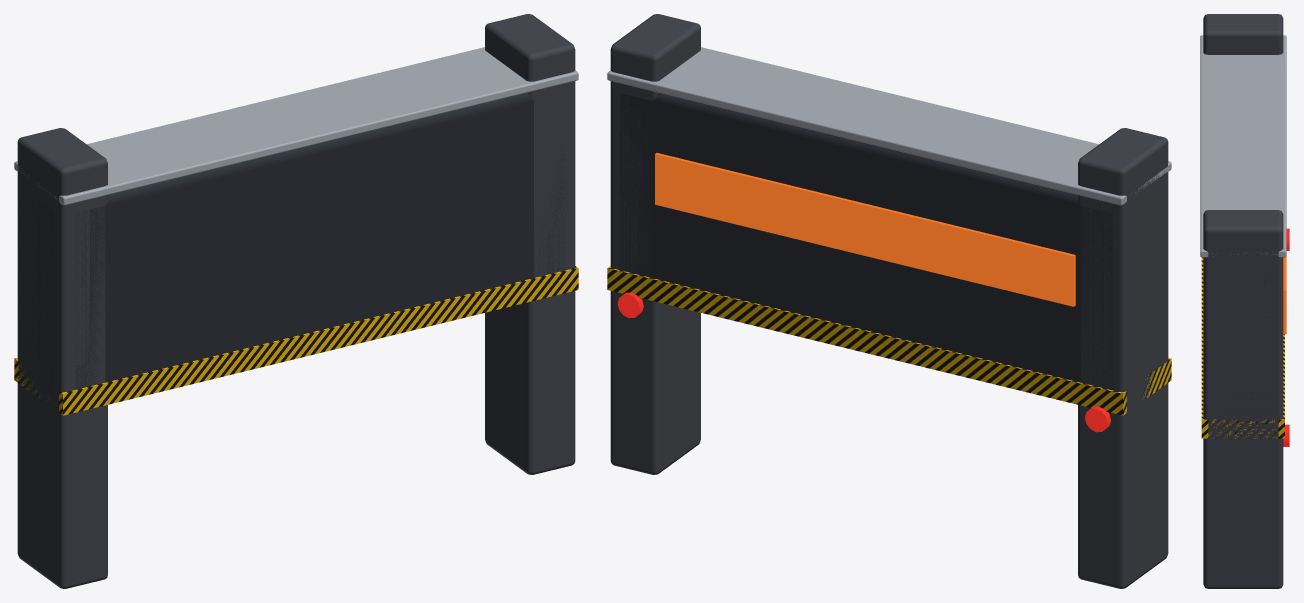
Rendered from obstacle_gate.glb.
3 renders of one model, left to right at view 1: azimuth 30°, elevation 25°; view 2: azimuth 150°, elevation 25°; view 3: azimuth 270°, elevation 25°, orthographic. The views are drawn at different scales.
Parts seen in each view (by area): view 1: Gate; view 2: Gate; view 3: Gate.
Part boxes in pixels (box(x1,y1,x2,y2)): Gate: box(14, 14, 578, 588); Gate: box(607, 14, 1171, 588); Gate: box(1200, 14, 1289, 588).
Size of the model in its own units: 3.2 by 2.5 by 0.56.
4 materials, 1 textured.
